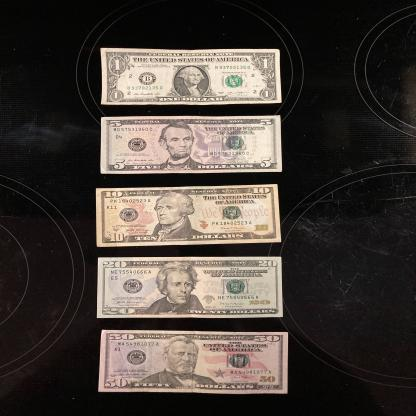fifty-front: (98, 330, 288, 394)
five-front: (100, 115, 282, 174)
one-front: (100, 48, 282, 106)
ten-front: (96, 184, 282, 248)
twenty-front: (96, 256, 283, 318)
